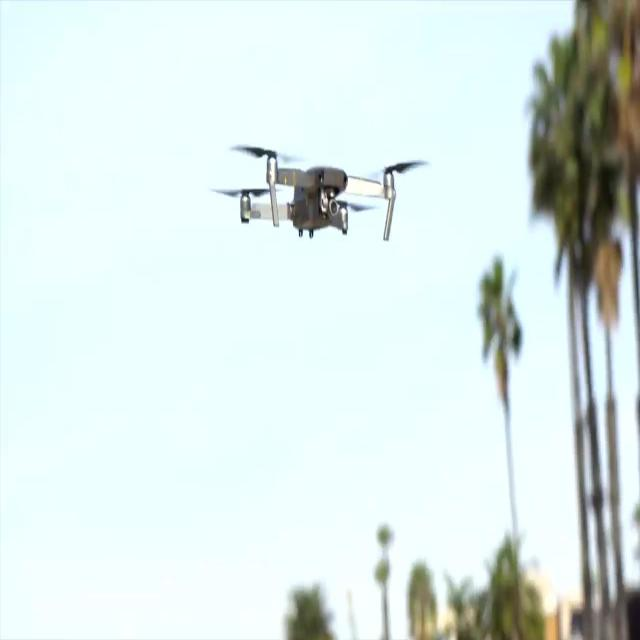drone: (226, 142, 428, 248)
